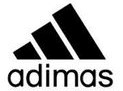adidas Fake: (6, 1, 116, 91)
